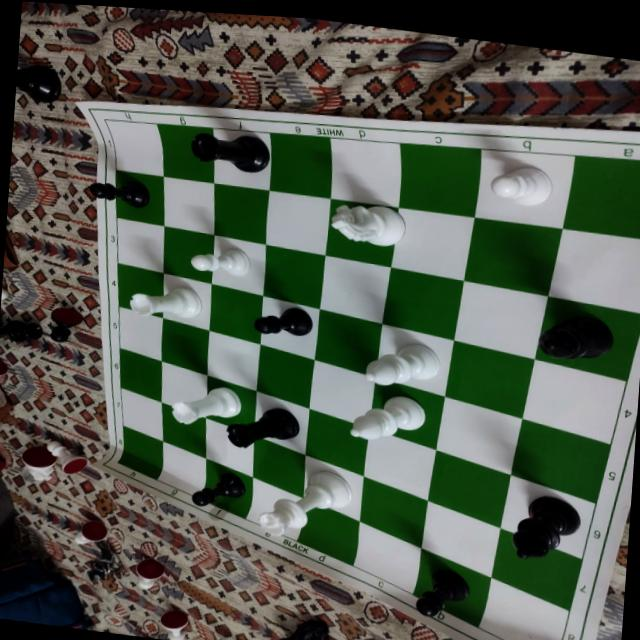board: (91, 109, 640, 640)
square: (535, 295, 640, 380), (522, 358, 626, 443), (511, 418, 612, 503), (500, 473, 596, 558), (475, 147, 574, 227), (548, 227, 640, 312), (464, 216, 562, 295), (491, 527, 582, 610), (454, 279, 548, 358), (445, 339, 535, 417), (436, 395, 523, 474), (427, 448, 511, 527), (562, 154, 640, 237), (412, 547, 491, 626), (391, 206, 475, 279), (421, 499, 500, 576), (399, 142, 481, 216), (382, 266, 464, 339), (478, 576, 569, 640), (375, 323, 454, 395), (370, 376, 445, 448), (364, 426, 436, 500), (325, 197, 399, 266), (352, 520, 421, 593), (330, 136, 400, 207), (319, 254, 391, 323), (360, 475, 427, 547), (314, 308, 382, 376), (309, 358, 375, 427), (305, 408, 369, 475), (296, 497, 359, 565), (265, 189, 330, 254), (303, 453, 364, 520), (263, 243, 325, 308), (269, 131, 330, 197), (260, 294, 320, 358), (245, 476, 304, 540), (256, 343, 314, 407), (212, 127, 270, 189), (254, 390, 309, 453), (157, 122, 214, 182), (214, 182, 269, 243), (212, 233, 266, 295), (252, 434, 305, 497), (105, 119, 163, 175), (207, 329, 260, 390), (209, 283, 262, 343), (200, 457, 252, 518), (206, 374, 256, 435), (163, 175, 214, 234), (163, 225, 214, 282), (206, 416, 254, 476), (162, 272, 211, 329), (157, 440, 205, 498), (115, 169, 164, 225), (161, 317, 209, 374), (117, 216, 164, 272), (161, 360, 207, 417), (117, 262, 163, 317), (118, 424, 163, 479), (162, 401, 206, 457), (119, 305, 163, 360), (120, 386, 162, 440), (119, 347, 161, 401)
